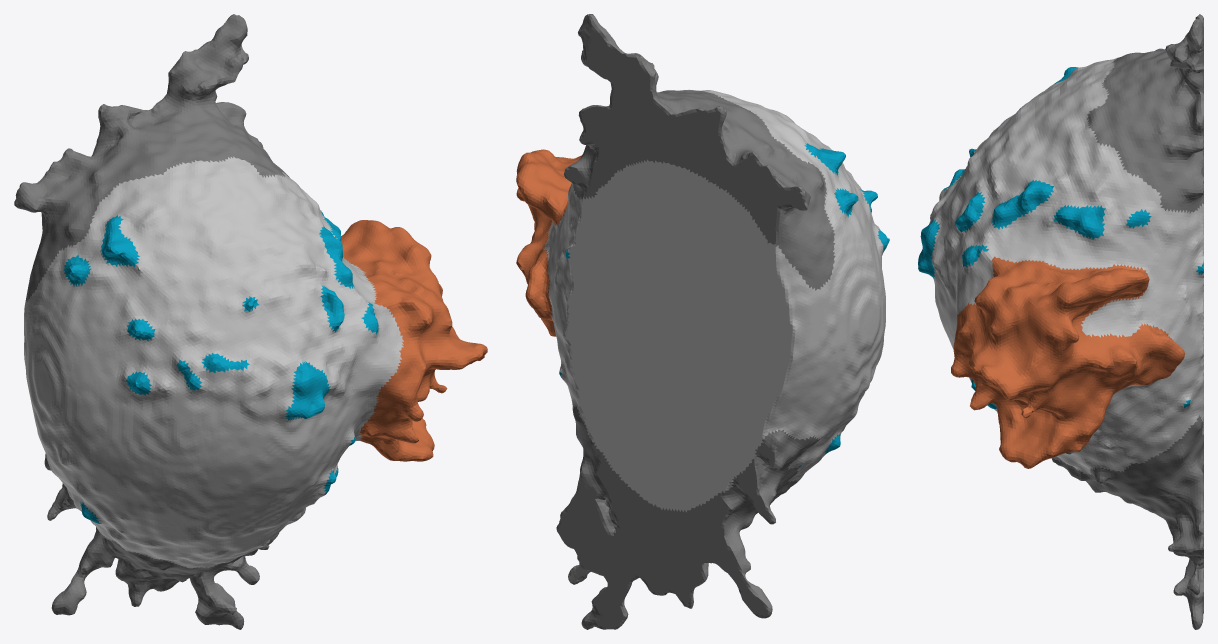
The picture shows the model from 3 angles, left to right: view 1: azimuth 30°, elevation 25°; view 2: azimuth 150°, elevation 25°; view 3: azimuth 270°, elevation 25°; orthographic projection.
Bounding box in the file's own units: 107 × 162 × 69.
